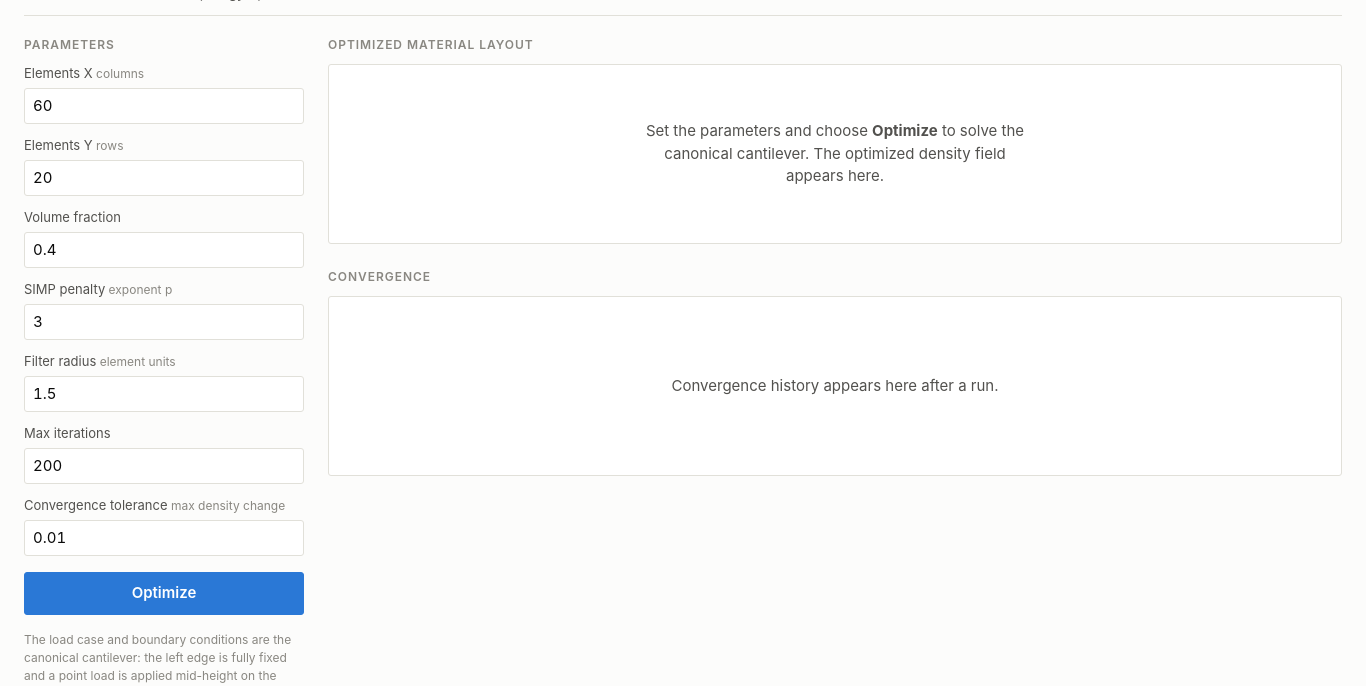
failures › surfaces a 5xx using the message the backend supplied
Step 1. Click the button "Optimize" → (164, 593), box [24, 572, 304, 614]
(page scrolled)
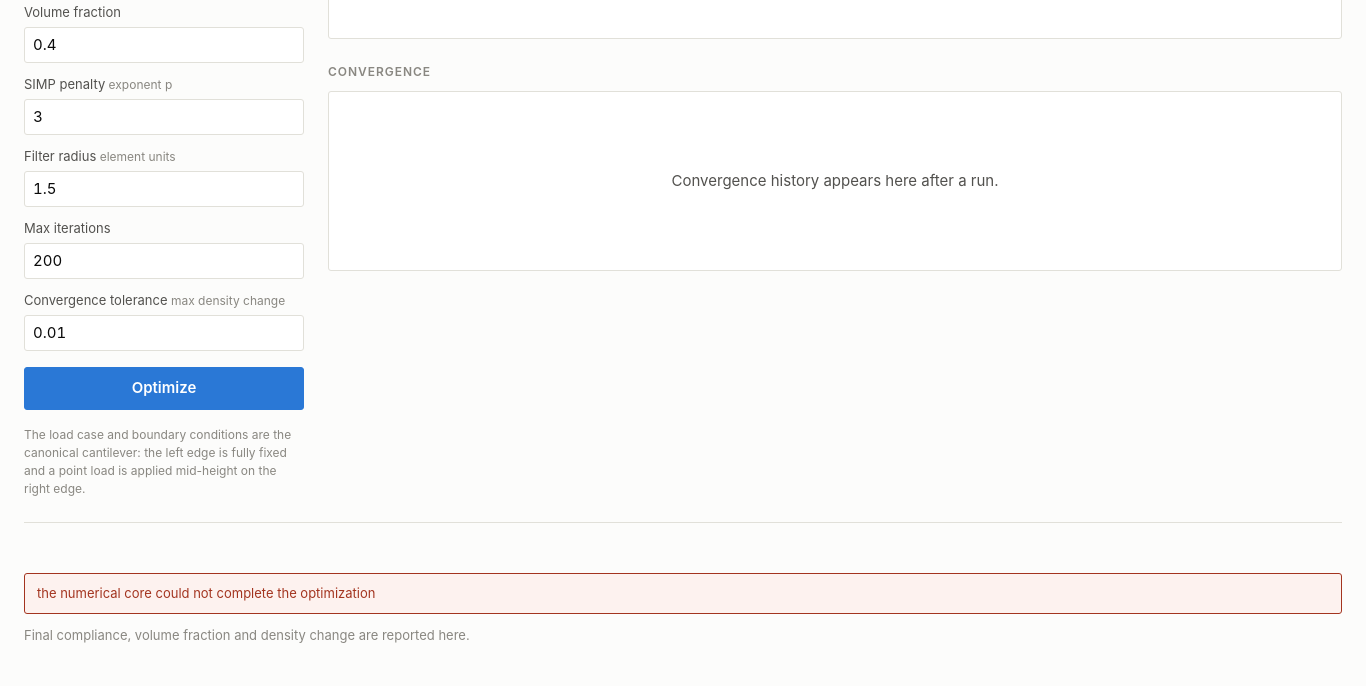
Expected: the message "the numerical core could not complete the optimization" is shown, [24, 572, 1342, 614]
